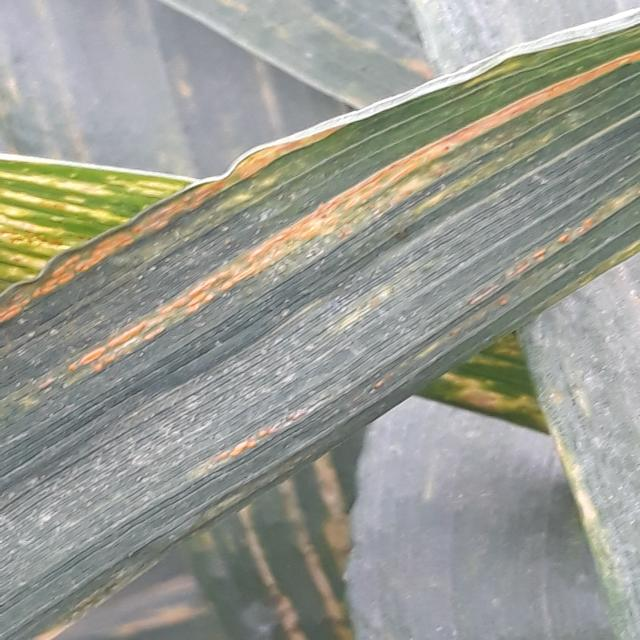yellow_rust: (7, 0, 639, 491), (202, 452, 382, 640), (0, 147, 198, 289), (422, 312, 558, 437)
